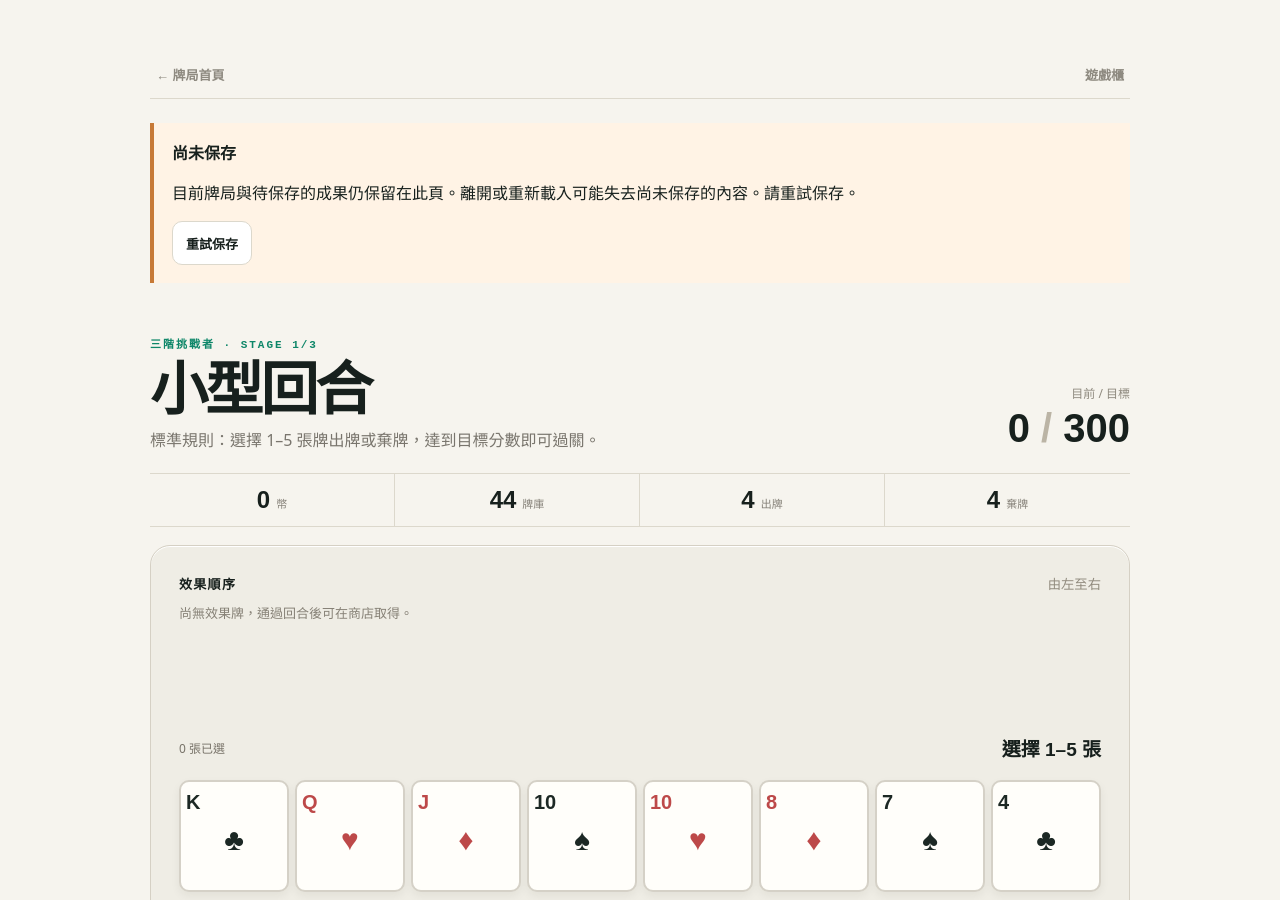
it: poker save recovery › retries a pending save on the next action without requiring the retry button
Expected: the message "尚未保存 目前牌局與待保存的成果仍保留在此頁。離開或重新載入可能失去尚未保存的內容。請重試保存。 重試保存" is shown, [150,123,1130,283]
Click the button "K ♣" at (234, 836), box [179,780,289,892]
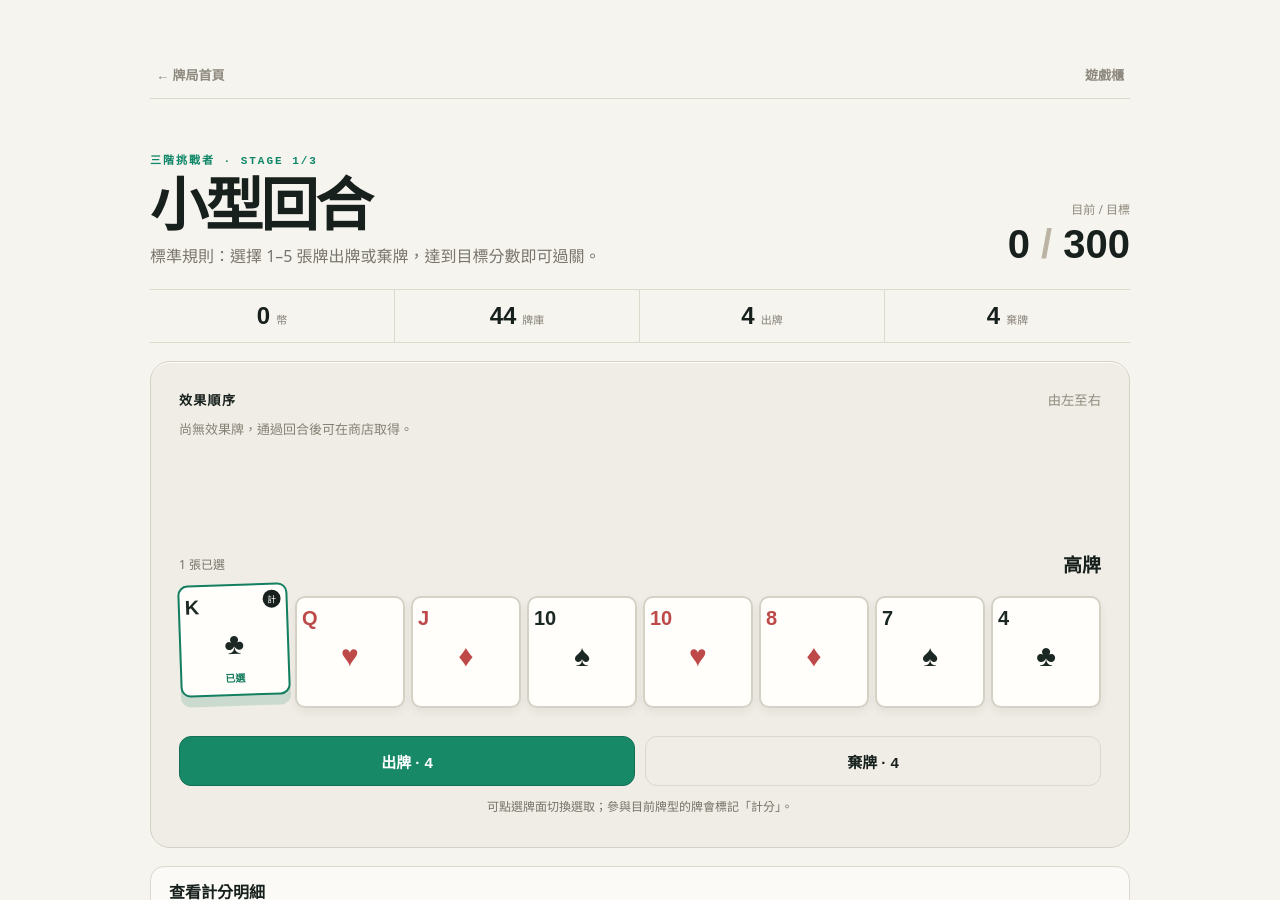
Result: the message "尚未保存 目前牌局與待保存的成果仍保留在此頁。離開或重新載入可能失去尚未保存的內容。請重試保存。 重試保存" is gone
